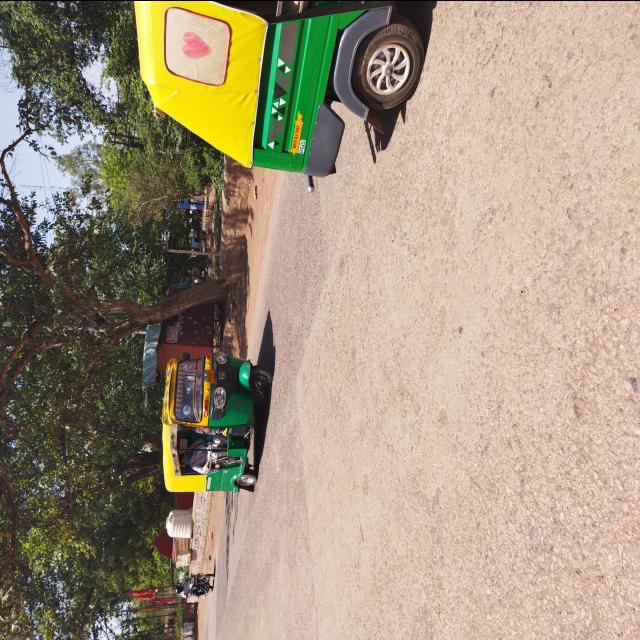Autorickshaw: (126, 0, 430, 188), (154, 331, 284, 513)
